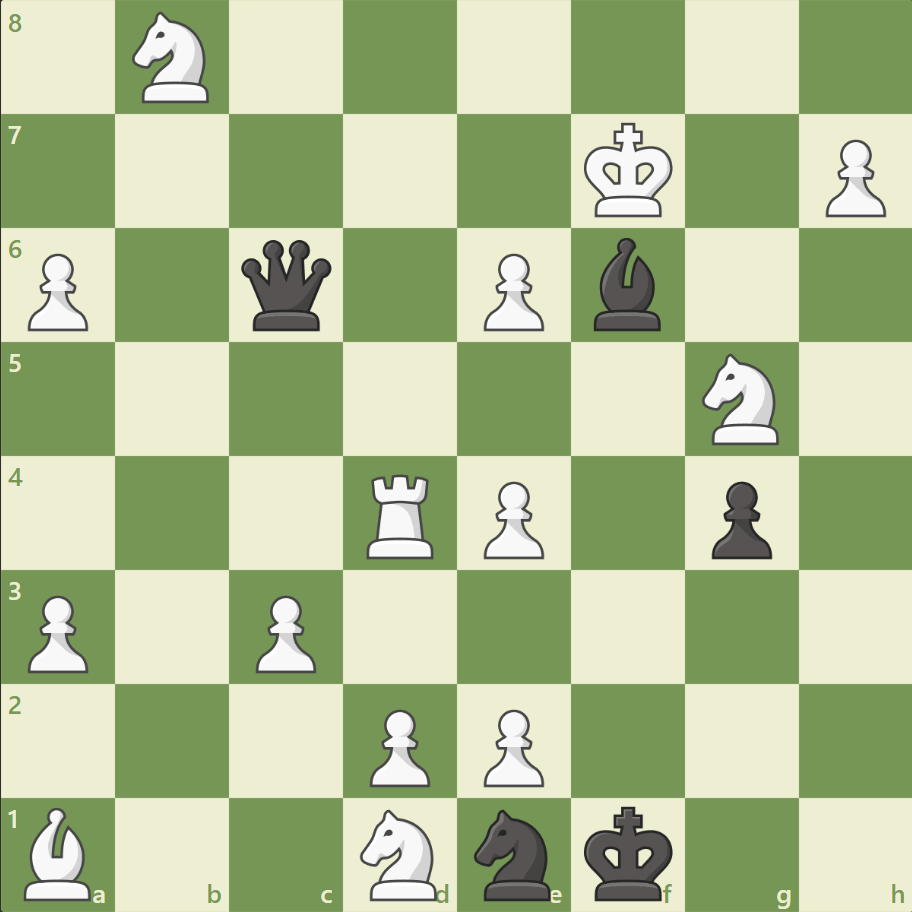B: (17, 801, 101, 904)
K: (579, 117, 679, 225)
N: (124, 7, 222, 110), (351, 802, 449, 904), (692, 348, 789, 450)
P: (20, 246, 95, 337), (474, 246, 549, 337), (474, 473, 549, 564), (20, 586, 95, 677), (247, 586, 322, 677), (474, 700, 549, 791), (815, 132, 889, 223), (361, 700, 435, 791)
R: (360, 466, 442, 563)
b: (585, 233, 669, 336)
k: (579, 798, 679, 906)
n: (465, 802, 562, 904)
p: (701, 473, 776, 564)
q: (237, 236, 336, 335)
